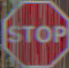Stop: (5, 4, 65, 55)
